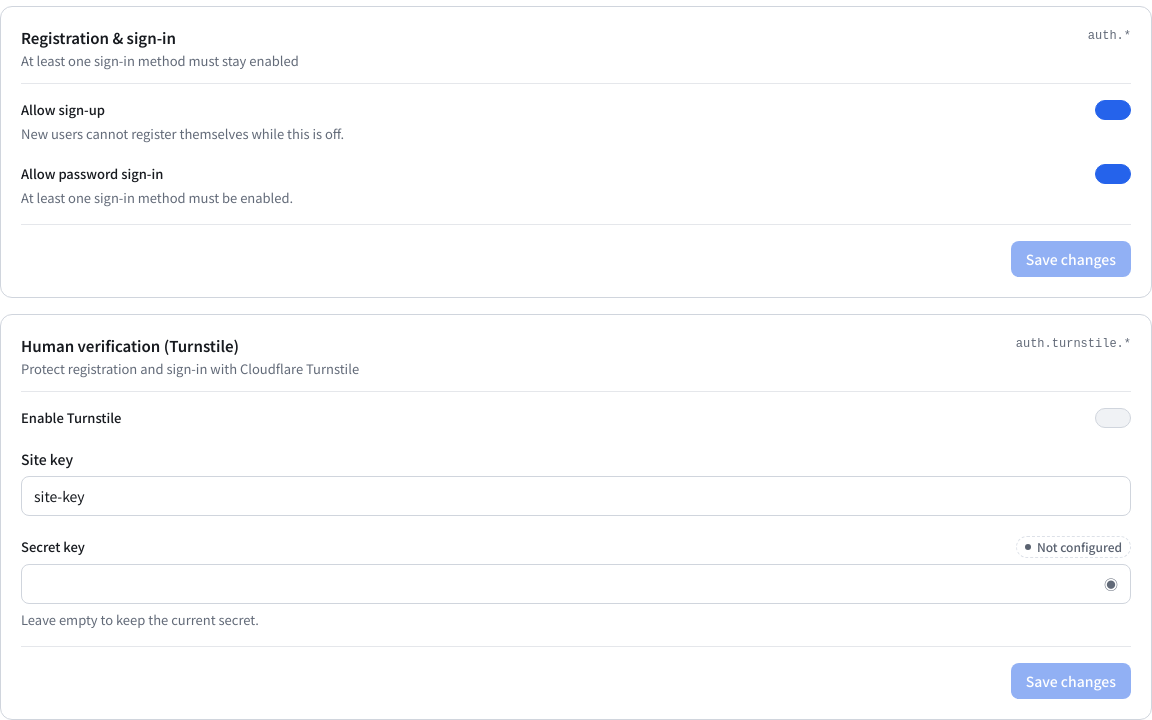
Scenario: SettingsShell contract › blocks enabling Turnstile without a secret (F5)
(page scrolled)
Click the switch labelled "Enable Turnstile" at (1113, 418), box top-left (1095, 408), bottom-right (1131, 428)
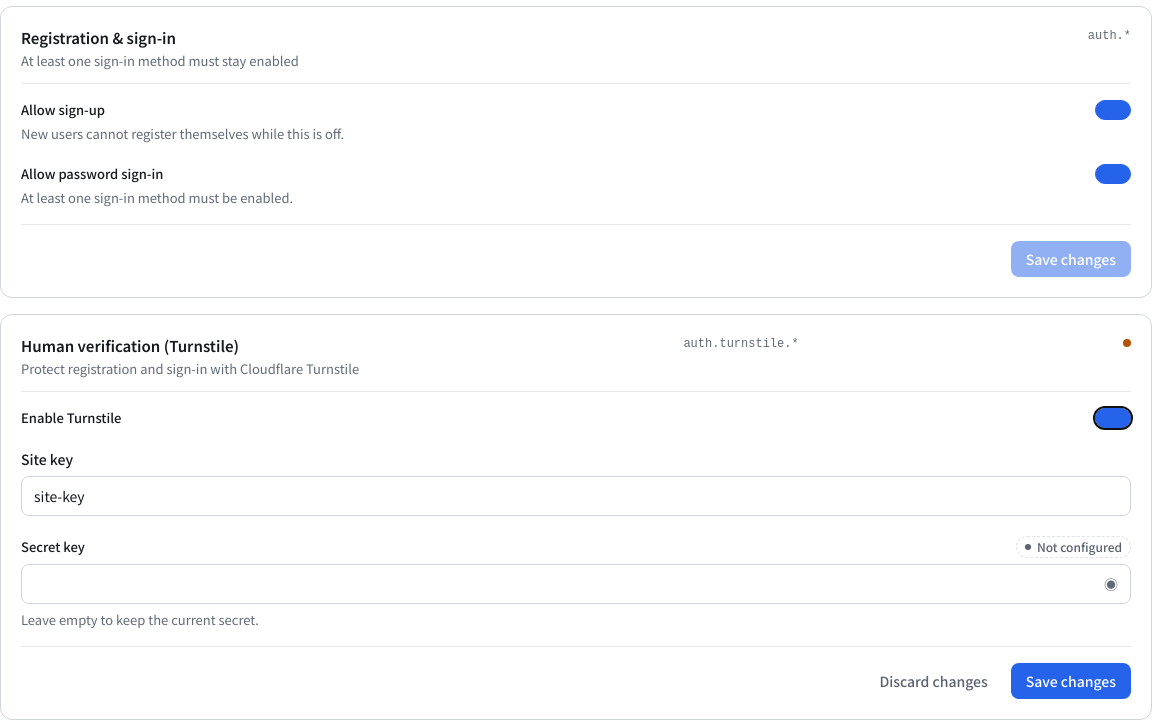
Click the button "Save changes" below "Not configured" at (1071, 681), box top-left (1011, 663), bottom-right (1131, 699)
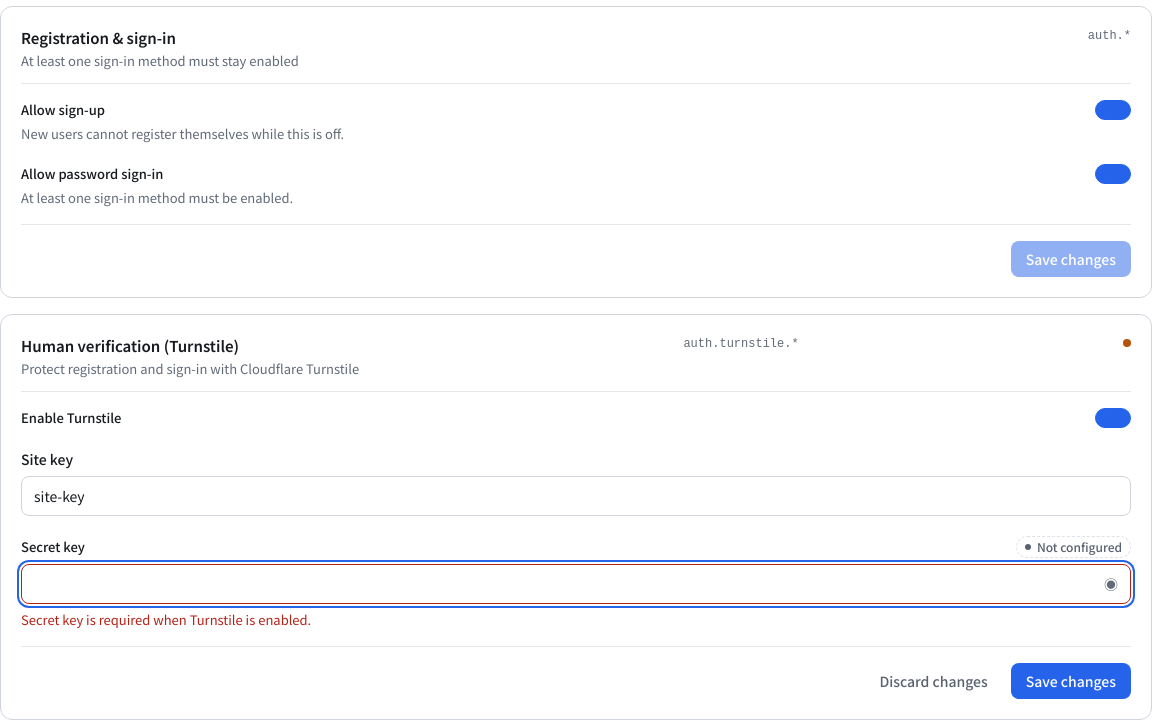
Result: the text "Secret key is required when Turnstile is enabled." is shown at top-left (21, 610), bottom-right (311, 629)
